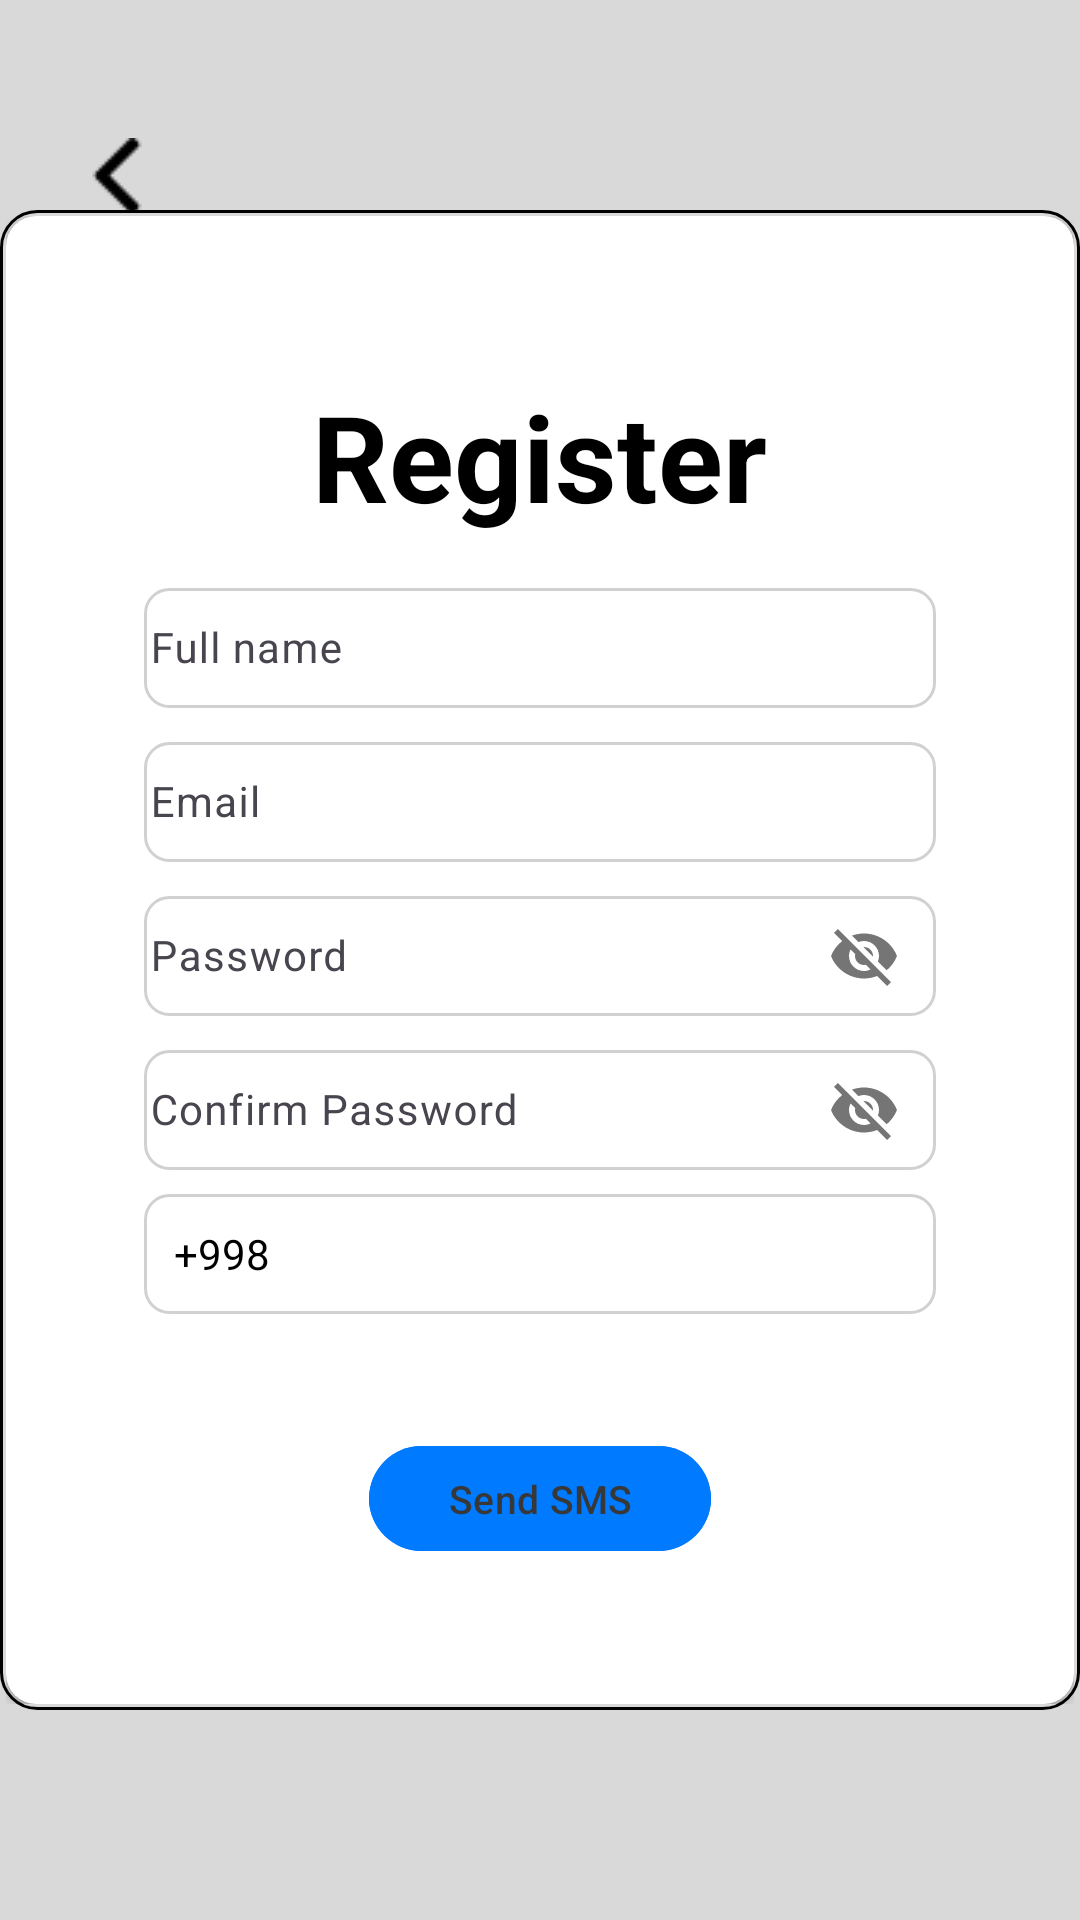

Named icons in this screenshot (1080x1920) and their bounding boxes, (x1, y1, x2, y2):
back: (90, 138, 144, 213)
